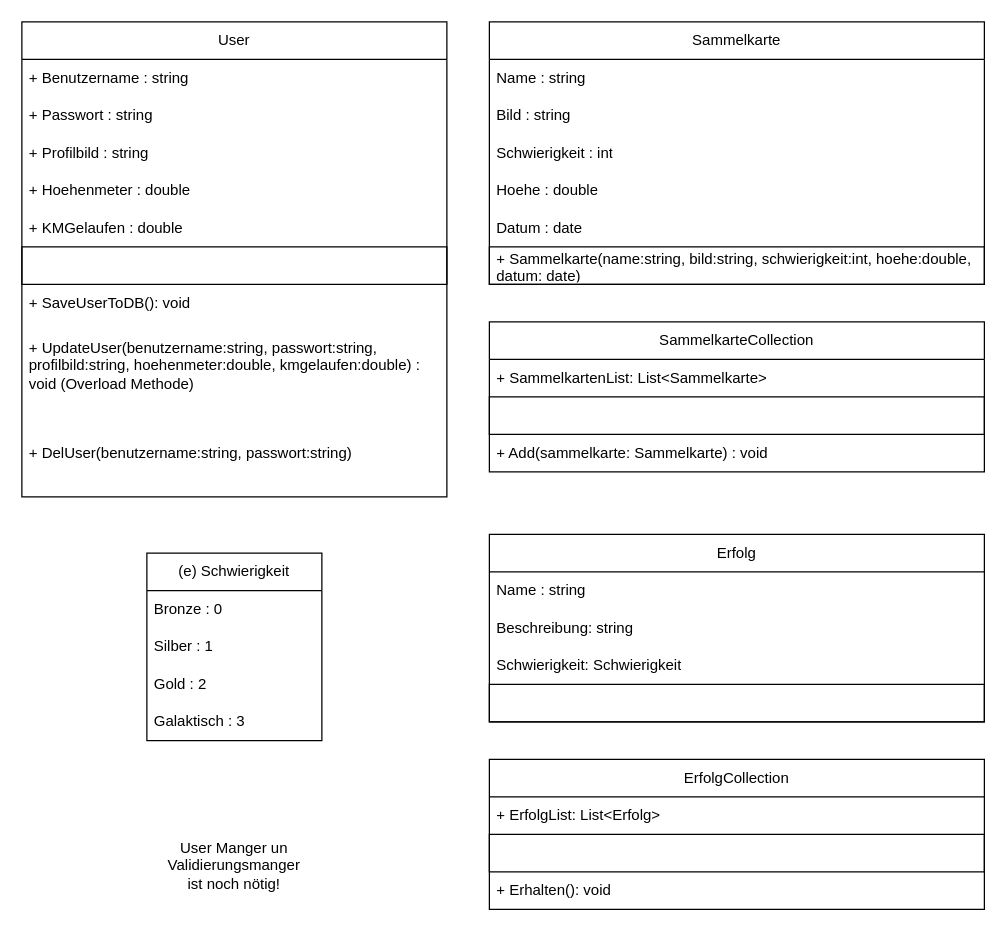
Image size: 1006x931. Some labels were removed from this diagram. Each missing label, with the centre of its shape:
"+ Erfolg(name:string, beschreibung:string, schwierigkeit: Schwierigkeit)" belongs at (x=736, y=702).
"+ ErfolgCollection()" belongs at (x=736, y=852).
"+ SammelkarteCollection()" belongs at (x=736, y=415).
"+ User(benutzerame: string, passwort:string, profilbild:string)" belongs at (x=234, y=265).
